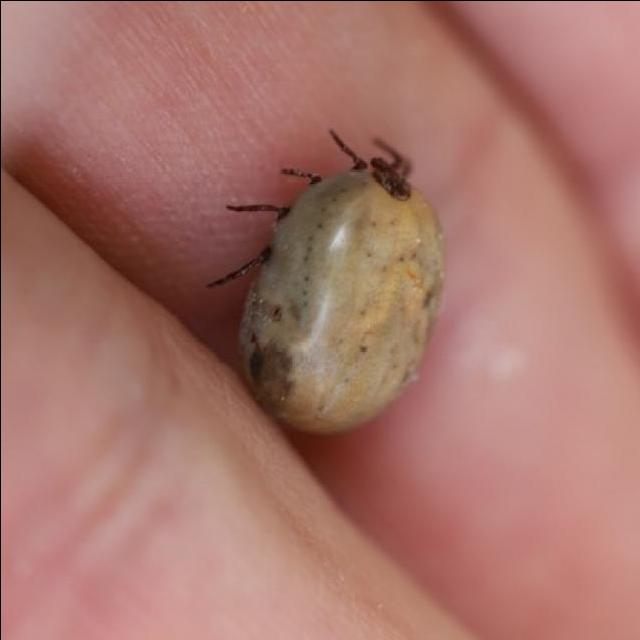Dermacentor Reticulatus-F-Fed: (207, 130, 446, 437)
